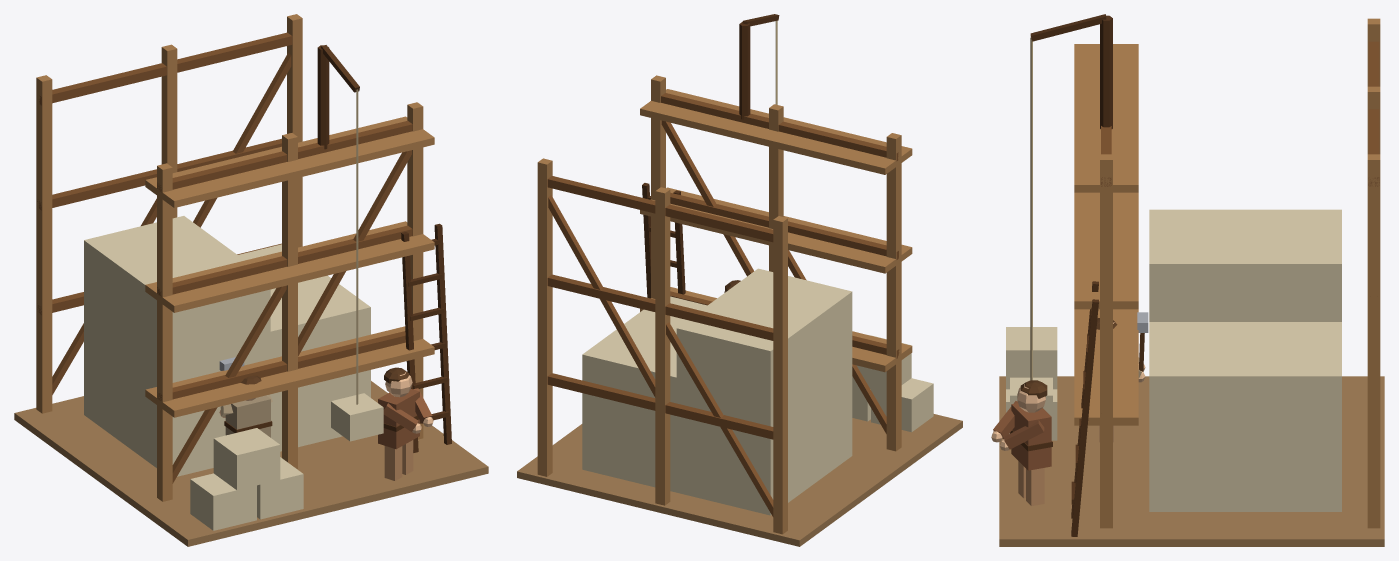
Rendered from rusztowanie.glb.
The picture shows the model from 3 angles, left to right: view 1: azimuth 30°, elevation 25°; view 2: azimuth 150°, elevation 25°; view 3: azimuth 270°, elevation 25°; orthographic projection. The views are drawn at different scales.
Parts seen in each view (by area): view 1: rusztowanie, anim_kolys_ladunek, anim_kolys_pomocnik; view 2: rusztowanie; view 3: rusztowanie, anim_kolys_ladunek, anim_kolys_pomocnik, anim_mlot_murarz.
Boxes of the visible parts, left/top/right/bottom form: rusztowanie: left=14, top=14, right=488, bottom=546; anim_kolys_ladunek: left=331, top=89, right=383, bottom=441; anim_kolys_pomocnik: left=383, top=388, right=433, bottom=433; rusztowanie: left=517, top=14, right=962, bottom=546; rusztowanie: left=999, top=14, right=1384, bottom=546; anim_kolys_ladunek: left=1010, top=37, right=1052, bottom=424; anim_kolys_pomocnik: left=991, top=401, right=1044, bottom=450; anim_mlot_murarz: left=1137, top=312, right=1148, bottom=382.
Size of the model in its own units: 1.8 by 2.41 by 1.84.
